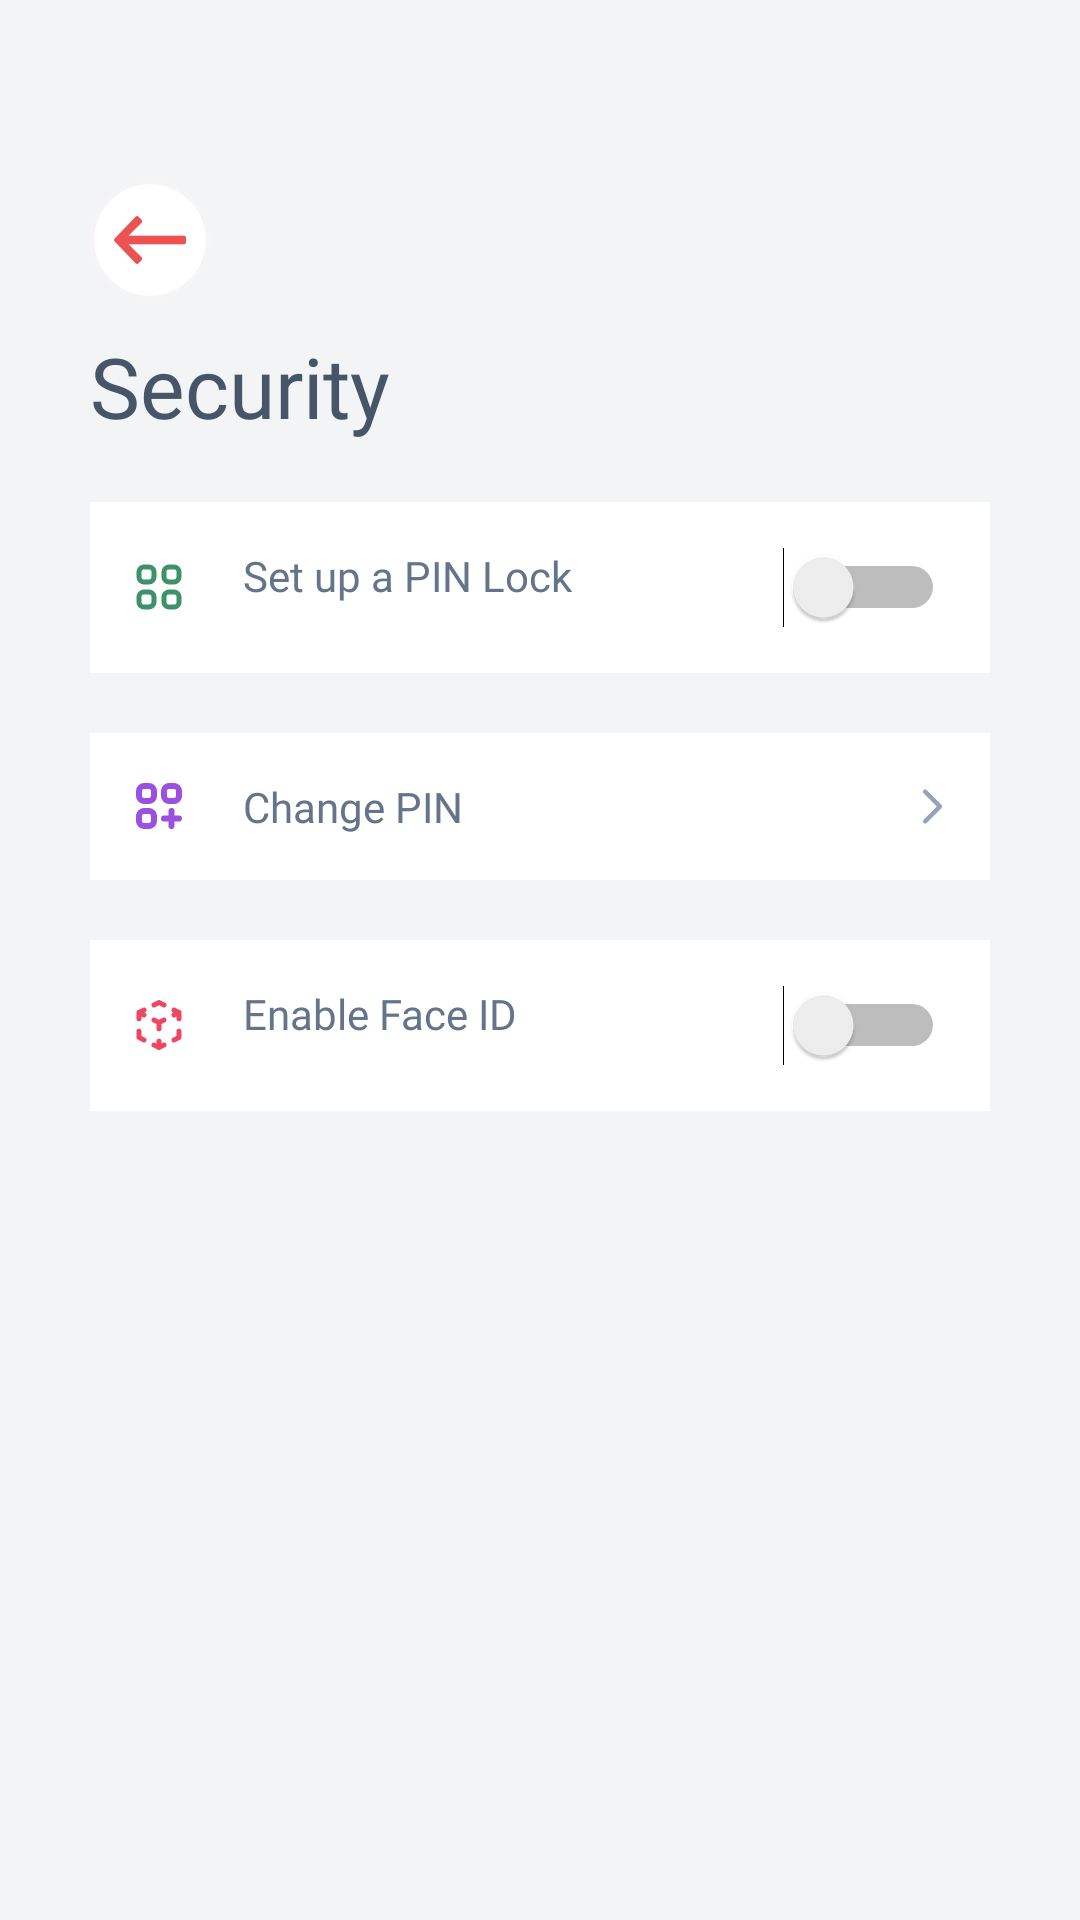

Icon bounding boxes for this 1080 × 1920 phone screenshot, format (x1, y1, x2, y2):
back: (94, 184, 206, 296)
